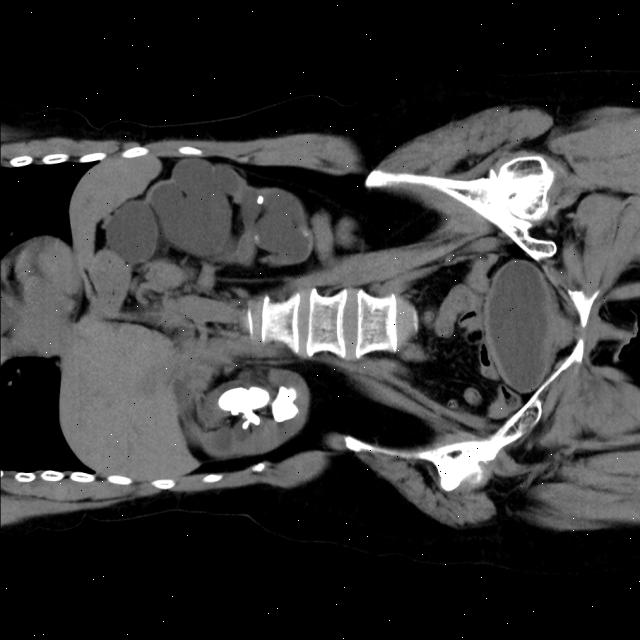kidneystone: (219, 385, 269, 428), (271, 385, 298, 421), (256, 194, 264, 204)
